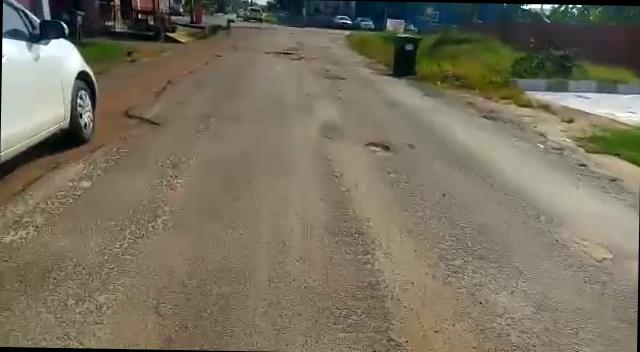pothole: (362, 138, 400, 154)
